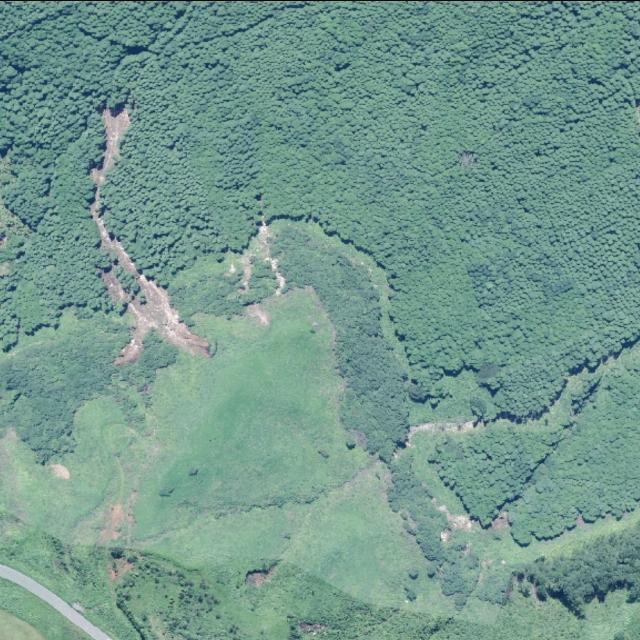landslide: (89, 107, 210, 361)
